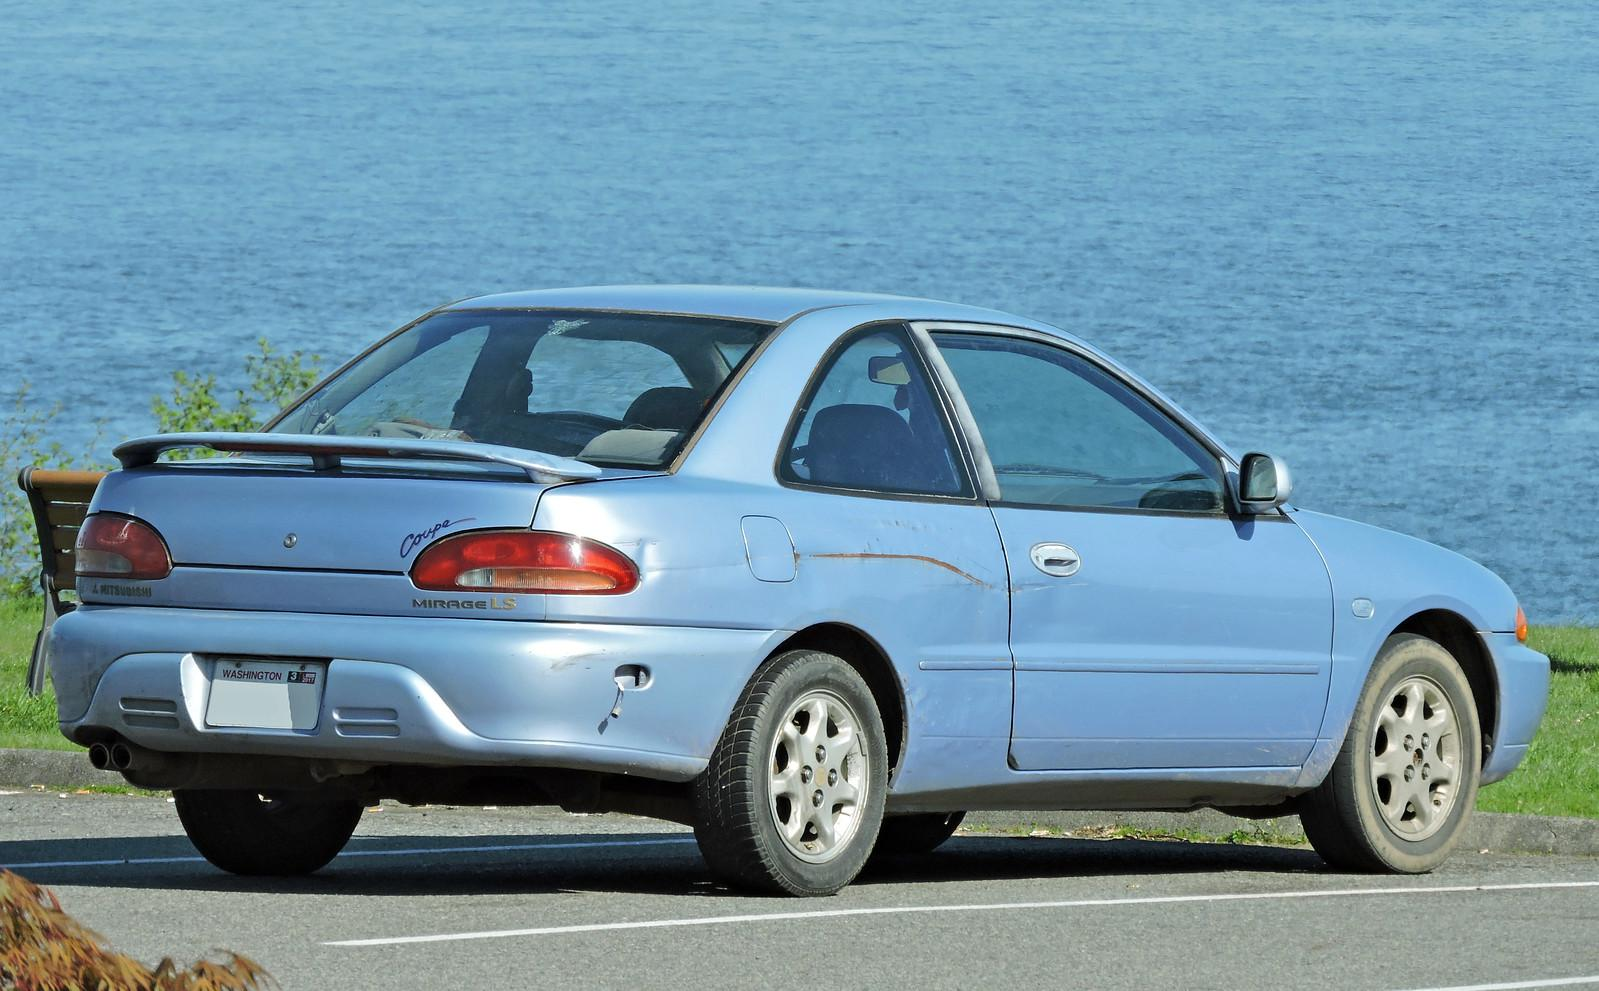quaterpanel-dent: (708, 497, 1001, 672)
